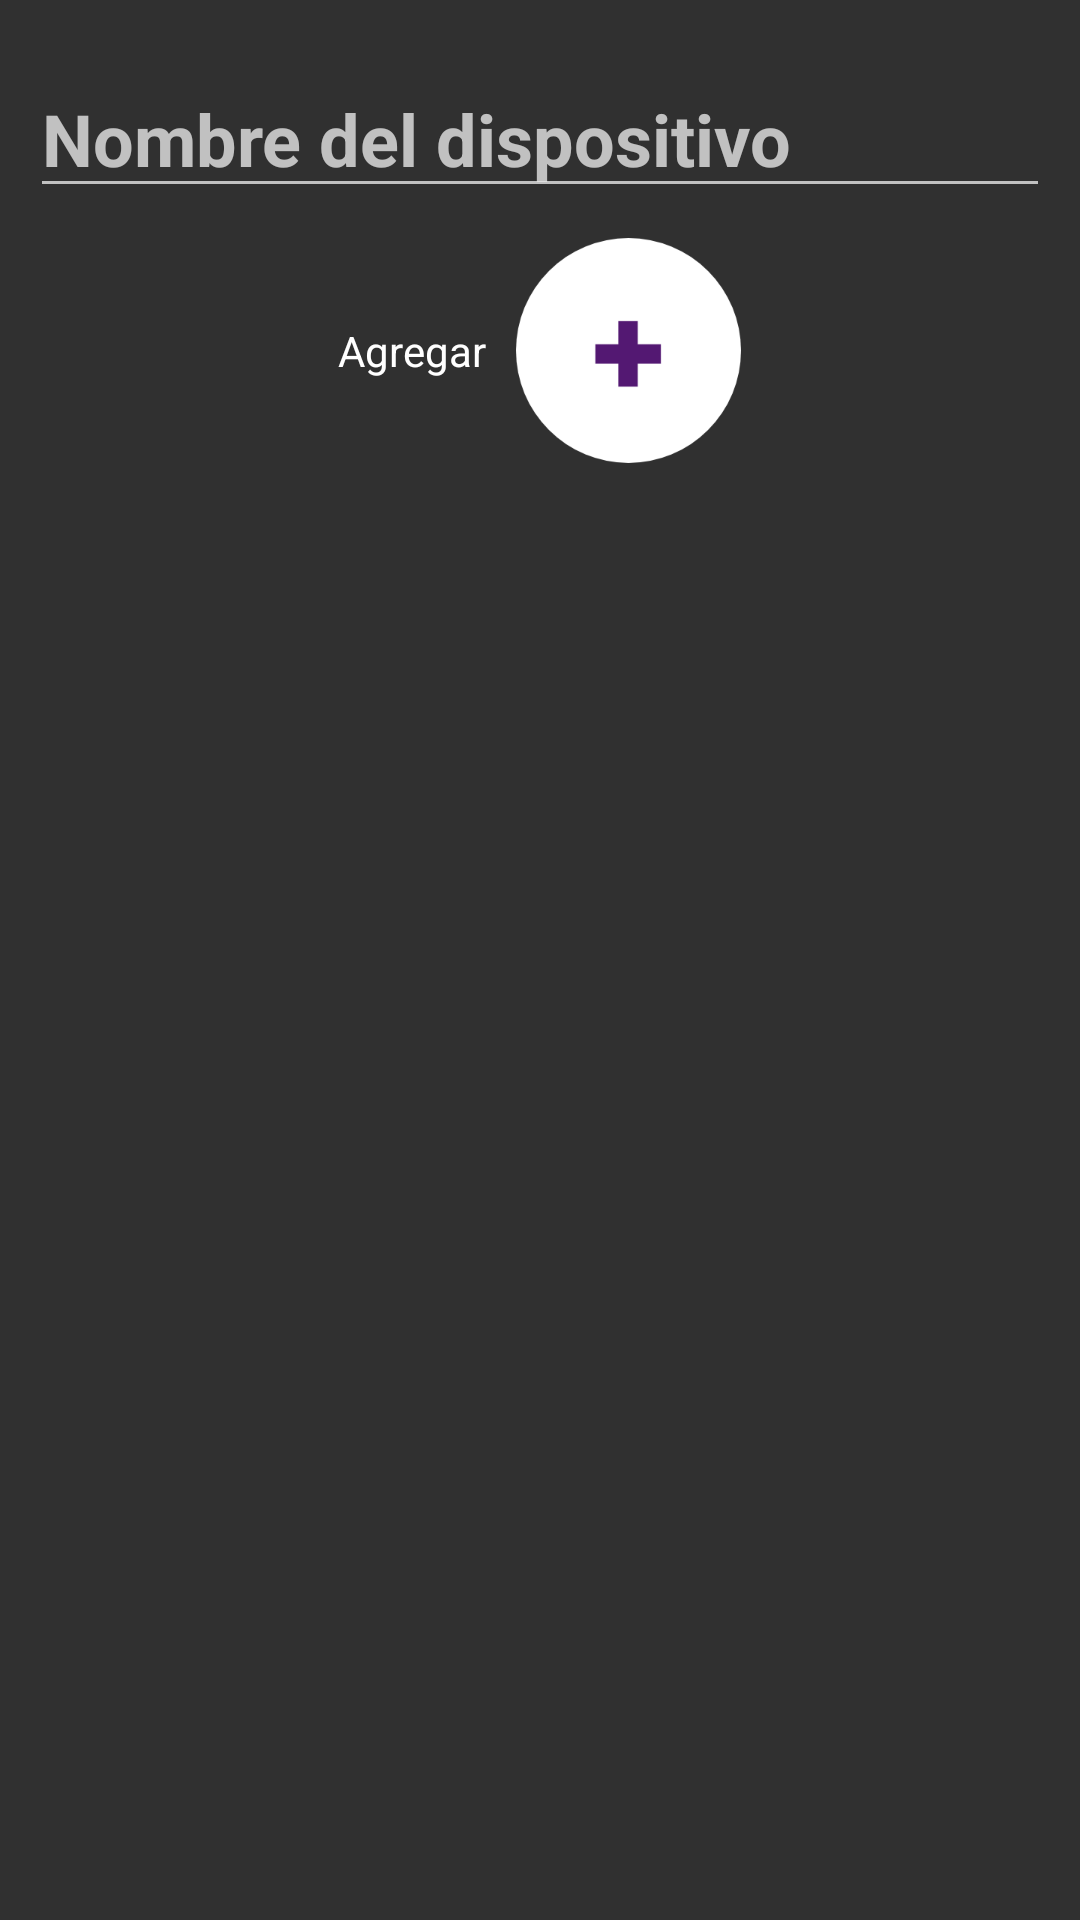

Icon click points for this 1080 x 1920 phone screenshot, format [x,y]:
bgadd: [628,350]
